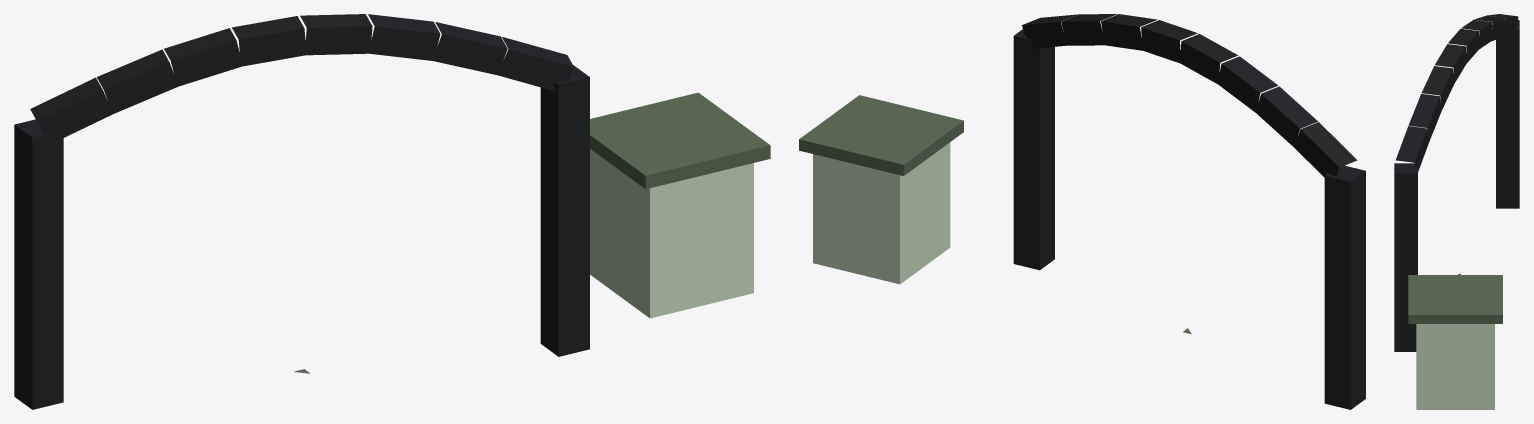
Rendered from marines_gate.glb.
3 views of the same model, side by side, from view 1: azimuth 30°, elevation 25°; view 2: azimuth 150°, elevation 25°; view 3: azimuth 270°, elevation 25° (orthographic). The views are drawn at different scales.
Visible parts, largest first — view 1: marines_gate_lod0; view 2: marines_gate_lod0; view 3: marines_gate_lod0.
Part boxes in pixels (x1,y1,x2,y2): marines_gate_lod0: (14,14,770,409); marines_gate_lod0: (799,14,1365,409); marines_gate_lod0: (1394,14,1519,409).
Size of what is drawn, in the model's own units: 12.9 by 6.45 by 3.18.
